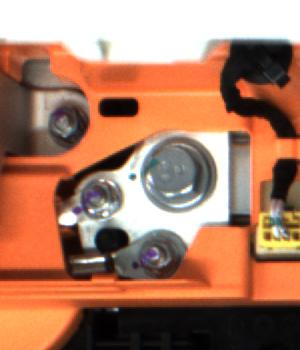nut_b: (136, 135, 229, 218)
